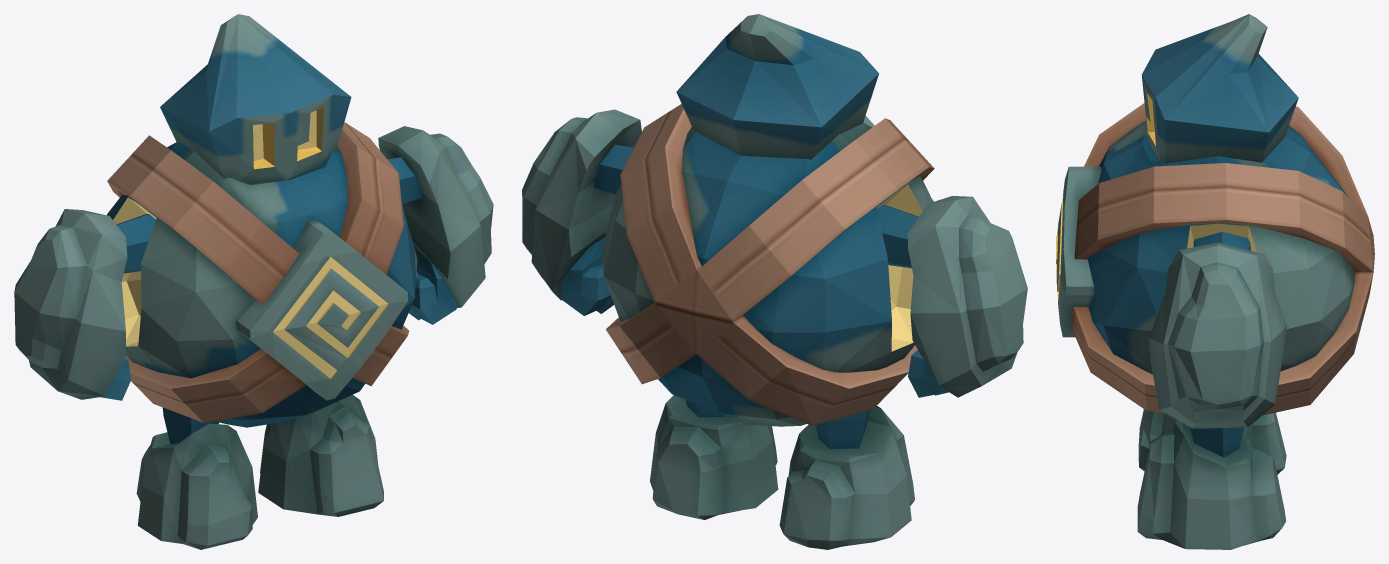
File: golett.glb
3 renders of one model, left to right at view 1: azimuth 30°, elevation 25°; view 2: azimuth 150°, elevation 25°; view 3: azimuth 270°, elevation 25°, orthographic. The views are drawn at different scales.
Parts seen in each view (by area): view 1: Object_2; view 2: Object_2; view 3: Object_2.
Boxes of the visible parts, x1,y1,x2,y2 form: Object_2: (14,14,493,549); Object_2: (522,14,1027,549); Object_2: (1056,14,1374,549).
Size of the model in its own units: 9.97 by 10.02 by 5.98.
Materials: 1 (1 with a texture image).
